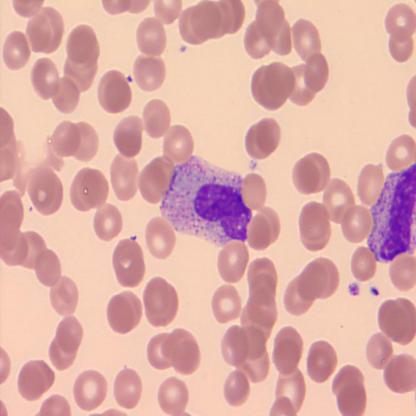Metamyelocyte: (158, 152, 255, 247)
